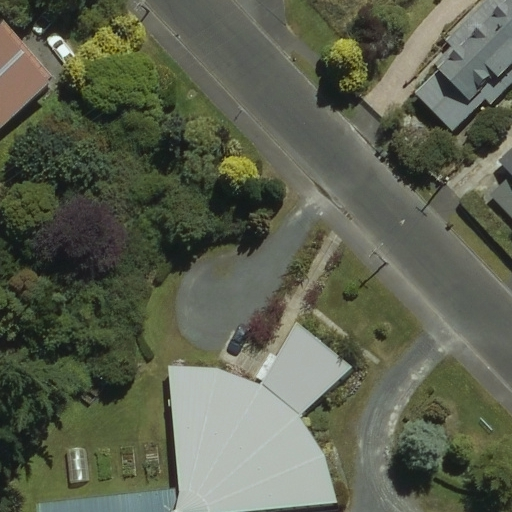DT: (363, 242, 393, 271)
